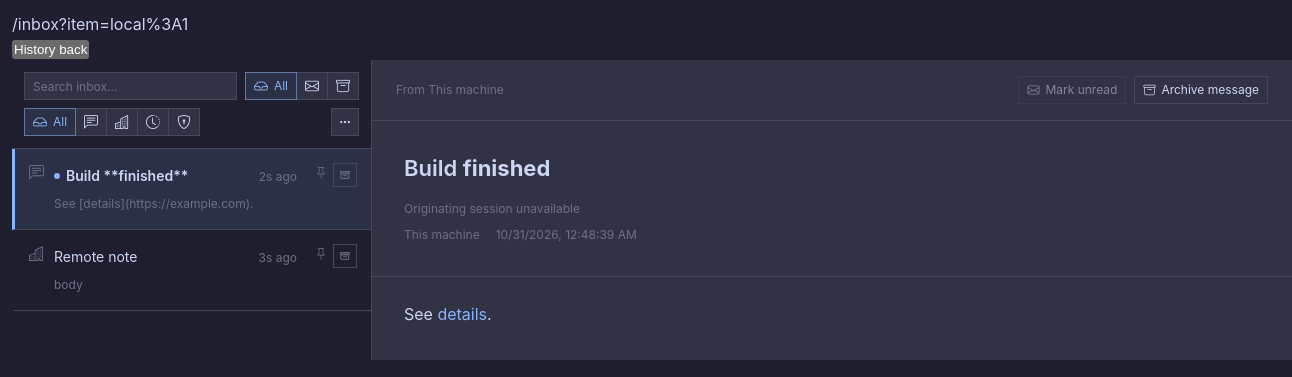
Test case: Inbox › clears the reader when no other filtered message remains
The width and height of the screenshot is (1292, 377).
Expected: the button that starts with "Build **finished**" is shown, [44,149,311,229]
Click the radio button named "Primary": coordinates (91, 122) [75,108,107,136]
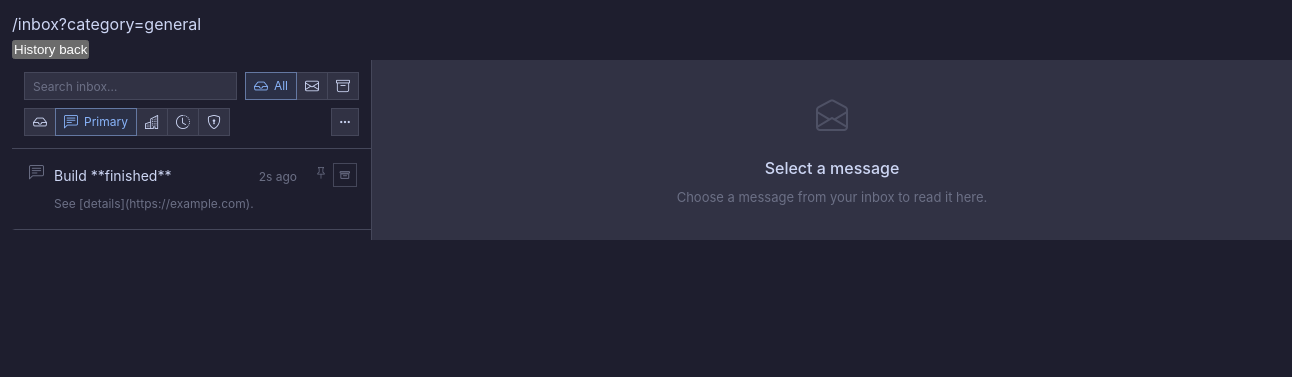
Click the button that starts with "Build **finished**": coordinates (113, 176) [44,149,311,229]
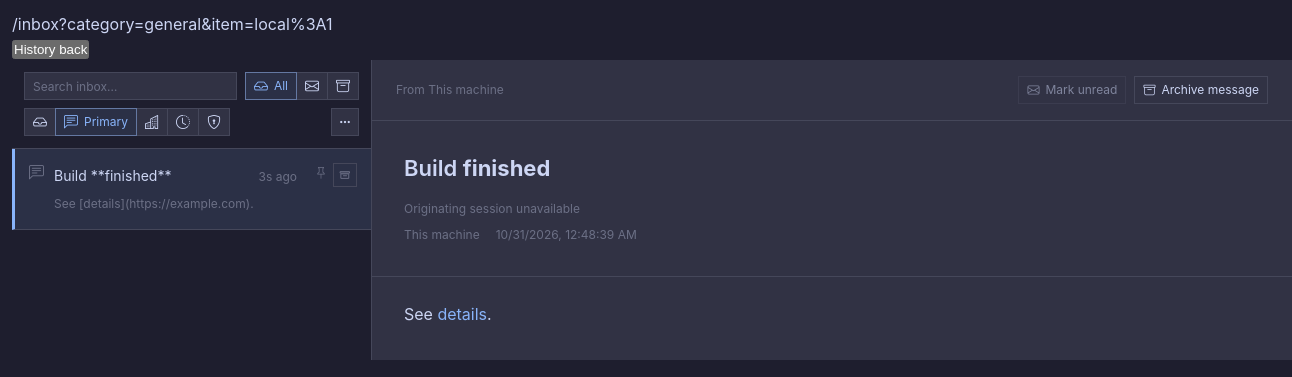
Click the button "Archive message": coordinates (1201, 90) [1134,76,1268,104]
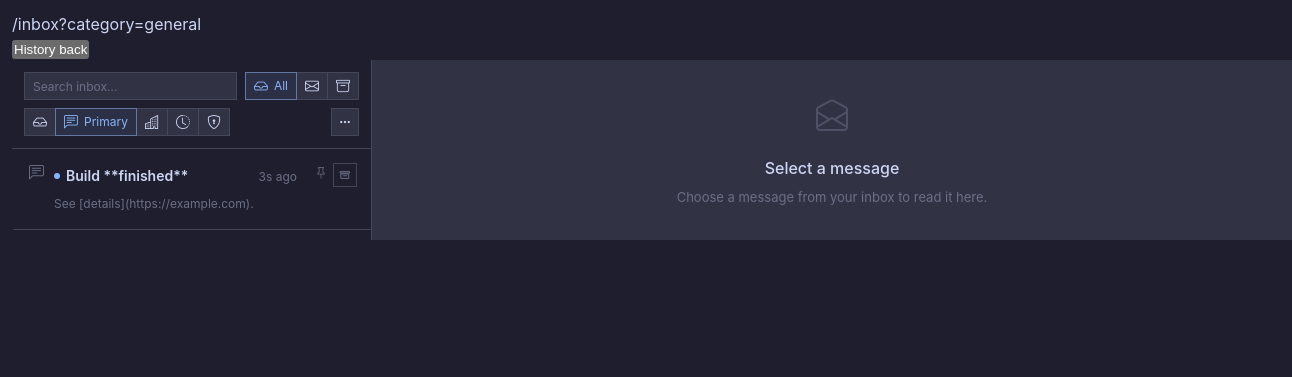
Result: the heading "Select a message" is shown at [765,156,899,180]
